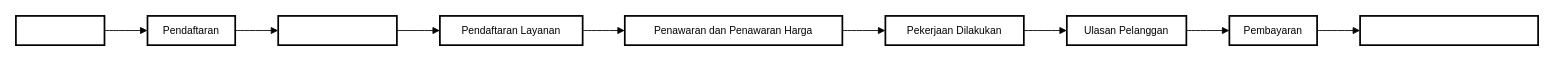
Some shapes in this 1553 by 60 pixel diagram are drawn without their labels. Each missing label, with the centre of its shape:
"Bisnis Fiverr" goes at point (60, 30).
"Pembayaran untuk Pekerja" goes at point (1449, 30).
"Pembuatan Profil" goes at point (337, 30).
